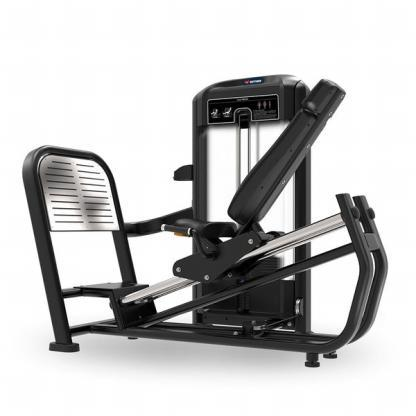leg press: (17, 46, 399, 383)
